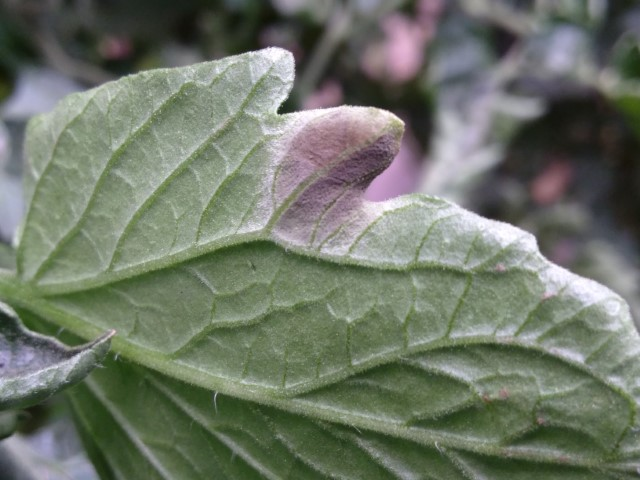cladosporium: (281, 96, 408, 239)
